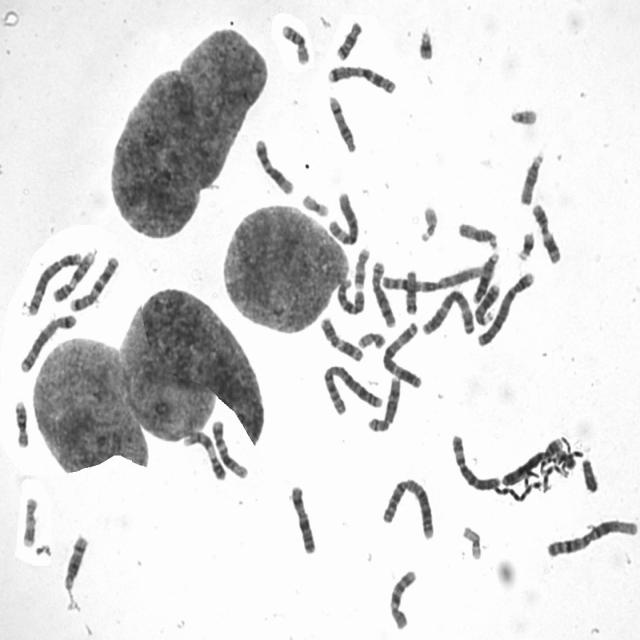A1: (542, 513, 639, 560), (377, 258, 490, 294)
A2: (378, 472, 437, 541), (318, 358, 385, 416)
A3: (378, 316, 424, 390), (417, 284, 477, 337)
B4: (473, 266, 537, 348), (498, 433, 565, 487)
B5: (23, 245, 83, 318), (15, 307, 78, 374)
C10: (384, 563, 418, 631), (332, 272, 367, 316)
C11: (316, 311, 366, 363), (527, 198, 563, 264)
C12: (250, 132, 296, 196), (208, 414, 249, 480)
C6: (448, 429, 502, 492), (324, 187, 360, 246)
C7: (66, 250, 120, 312), (322, 58, 398, 95)
C8: (363, 372, 402, 433), (367, 255, 398, 328)
C9: (48, 243, 98, 304), (179, 426, 227, 482)
D13: (468, 247, 501, 305), (471, 278, 502, 326)
D14: (324, 90, 357, 154), (59, 528, 90, 592)
D15: (516, 146, 546, 207), (454, 216, 500, 250)
E16: (278, 19, 311, 65), (10, 395, 31, 449)
E17: (18, 490, 39, 550), (350, 242, 371, 290)
E18: (332, 15, 364, 62), (401, 264, 421, 316)
F19: (458, 520, 483, 562), (298, 187, 331, 218)
F20: (354, 326, 387, 350), (551, 446, 576, 470)
G21: (414, 21, 436, 61), (514, 226, 536, 262)
G22: (416, 199, 439, 243), (505, 101, 540, 126)
X: (286, 480, 318, 556)
Y: (578, 453, 600, 494)
